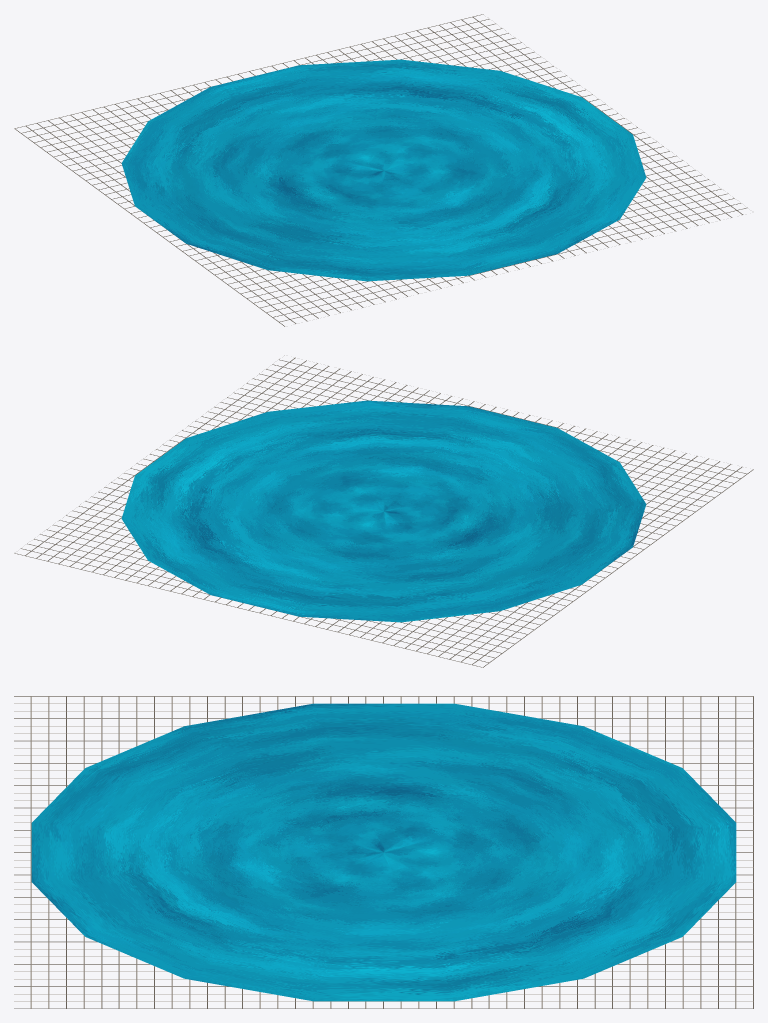
File: Water_Circle_1_Lowpoly.glb
3 views of the same model, one above another, from view 1: azimuth 30°, elevation 25°; view 2: azimuth 150°, elevation 25°; view 3: azimuth 270°, elevation 25° (orthographic). The views are drawn at different scales.
Visible parts, largest first — view 1: Water_Circle_1_Lowpoly, Floor; view 2: Water_Circle_1_Lowpoly, Floor; view 3: Water_Circle_1_Lowpoly, Floor.
Part boxes in pixels (left/top/right/bottom): Water_Circle_1_Lowpoly: left=121, top=59, right=646, bottom=281; Floor: left=14, top=14, right=747, bottom=326; Water_Circle_1_Lowpoly: left=121, top=400, right=646, bottom=622; Floor: left=14, top=355, right=753, bottom=667; Water_Circle_1_Lowpoly: left=31, top=703, right=736, bottom=1001; Floor: left=14, top=696, right=753, bottom=1008.
Bounding box in the file's own units: 4200 × 0.000847 × 4200.
Materials: 2 (2 with a texture image).
